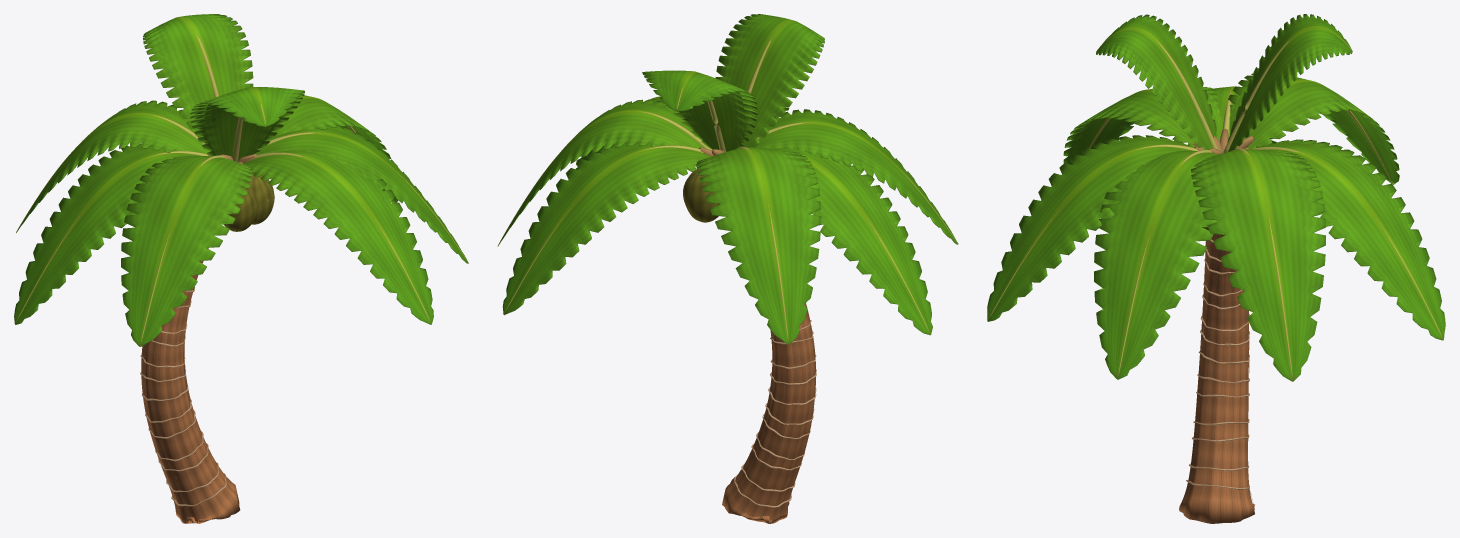
The model's file is palm-v1.glb.
The picture shows the model from 3 angles, left to right: view 1: azimuth 30°, elevation 25°; view 2: azimuth 150°, elevation 25°; view 3: azimuth 270°, elevation 25°; orthographic projection. The views are drawn at different scales.
Parts seen in each view (by area): view 1: Palm_Frond_06_Closed_Continuous_Blade_Notched_Margin, Palm_Frond_08_Closed_Continuous_Blade_Notched_Margin, Palm_Trunk_Curved_Ringed_Bark, Palm_Frond_05_Closed_Continuous_Blade_Notched_Margin, Palm_Frond_03_Closed_Continuous_Blade_Notched_Margin, Palm_Frond_07_Closed_Continuous_Blade_Notched_Margin, Palm_Frond_09_Closed_Continuous_Blade_Notched_Margin, Palm_Frond_04_Closed_Continuous_Blade_Notched_Margin, Palm_Frond_01_Closed_Continuous_Blade_Notched_Margin, Palm_Trunk_18_Irregular_Leaf_Scar_Ridges, Palm_Coconut_02_Green_Husk, Palm_Coconut_01_Green_Husk; view 2: Palm_Frond_04_Closed_Continuous_Blade_Notched_Margin, Palm_Frond_02_Closed_Continuous_Blade_Notched_Margin, Palm_Frond_05_Closed_Continuous_Blade_Notched_Margin, Palm_Trunk_Curved_Ringed_Bark, Palm_Frond_07_Closed_Continuous_Blade_Notched_Margin, Palm_Frond_06_Closed_Continuous_Blade_Notched_Margin, Palm_Frond_03_Closed_Continuous_Blade_Notched_Margin, Palm_Frond_01_Closed_Continuous_Blade_Notched_Margin, Palm_Trunk_18_Irregular_Leaf_Scar_Ridges, Palm_Coconut_03_Green_Husk; view 3: Palm_Frond_01_Closed_Continuous_Blade_Notched_Margin, Palm_Frond_09_Closed_Continuous_Blade_Notched_Margin, Palm_Trunk_Curved_Ringed_Bark, Palm_Frond_02_Closed_Continuous_Blade_Notched_Margin, Palm_Frond_08_Closed_Continuous_Blade_Notched_Margin, Palm_Frond_07_Closed_Continuous_Blade_Notched_Margin, Palm_Frond_04_Closed_Continuous_Blade_Notched_Margin, Palm_Frond_03_Closed_Continuous_Blade_Notched_Margin, Palm_Frond_06_Closed_Continuous_Blade_Notched_Margin, Palm_Trunk_18_Irregular_Leaf_Scar_Ridges.
Part boxes in pixels (<box>): Palm_Frond_06_Closed_Continuous_Blade_Notched_Margin: <box>121,155,252,346</box>; Palm_Frond_08_Closed_Continuous_Blade_Notched_Margin: <box>243,150,433,324</box>; Palm_Trunk_Curved_Ringed_Bark: <box>141,248,240,523</box>; Palm_Frond_05_Closed_Continuous_Blade_Notched_Margin: <box>14,143,201,324</box>; Palm_Frond_03_Closed_Continuous_Blade_Notched_Margin: <box>143,14,253,143</box>; Palm_Frond_07_Closed_Continuous_Blade_Notched_Margin: <box>190,87,304,160</box>; Palm_Frond_09_Closed_Continuous_Blade_Notched_Margin: <box>253,125,468,263</box>; Palm_Frond_04_Closed_Continuous_Blade_Notched_Margin: <box>16,100,210,232</box>; Palm_Frond_01_Closed_Continuous_Blade_Notched_Margin: <box>272,95,397,202</box>; Palm_Trunk_18_Irregular_Leaf_Scar_Ridges: <box>140,287,226,506</box>; Palm_Coconut_02_Green_Husk: <box>245,172,274,224</box>; Palm_Coconut_01_Green_Husk: <box>224,187,257,231</box>; Palm_Frond_04_Closed_Continuous_Blade_Notched_Margin: <box>696,147,821,344</box>; Palm_Frond_02_Closed_Continuous_Blade_Notched_Margin: <box>502,140,711,315</box>; Palm_Frond_05_Closed_Continuous_Blade_Notched_Margin: <box>771,148,932,335</box>; Palm_Trunk_Curved_Ringed_Bark: <box>722,303,815,523</box>; Palm_Frond_07_Closed_Continuous_Blade_Notched_Margin: <box>715,14,824,147</box>; Palm_Frond_06_Closed_Continuous_Blade_Notched_Margin: <box>752,109,958,244</box>; Palm_Frond_03_Closed_Continuous_Blade_Notched_Margin: <box>642,70,757,151</box>; Palm_Frond_01_Closed_Continuous_Blade_Notched_Margin: <box>497,99,704,246</box>; Palm_Trunk_18_Irregular_Leaf_Scar_Ridges: <box>734,320,816,507</box>; Palm_Coconut_03_Green_Husk: <box>683,169,720,222</box>; Palm_Frond_01_Closed_Continuous_Blade_Notched_Margin: <box>1191,149,1325,381</box>; Palm_Frond_09_Closed_Continuous_Blade_Notched_Margin: <box>1094,150,1218,379</box>; Palm_Trunk_Curved_Ringed_Bark: <box>1179,234,1254,523</box>; Palm_Frond_02_Closed_Continuous_Blade_Notched_Margin: <box>1256,139,1445,340</box>; Palm_Frond_08_Closed_Continuous_Blade_Notched_Margin: <box>987,135,1193,321</box>; Palm_Frond_07_Closed_Continuous_Blade_Notched_Margin: <box>1096,14,1216,150</box>; Palm_Frond_04_Closed_Continuous_Blade_Notched_Margin: <box>1228,73,1399,184</box>; Palm_Frond_03_Closed_Continuous_Blade_Notched_Margin: <box>1227,14,1352,151</box>; Palm_Frond_06_Closed_Continuous_Blade_Notched_Margin: <box>1063,87,1222,164</box>; Palm_Trunk_18_Irregular_Leaf_Scar_Ridges: <box>1186,239,1249,489</box>.
Size of the model in its own units: 6.65 by 7.25 by 5.99.
7 materials, 3 textured.
